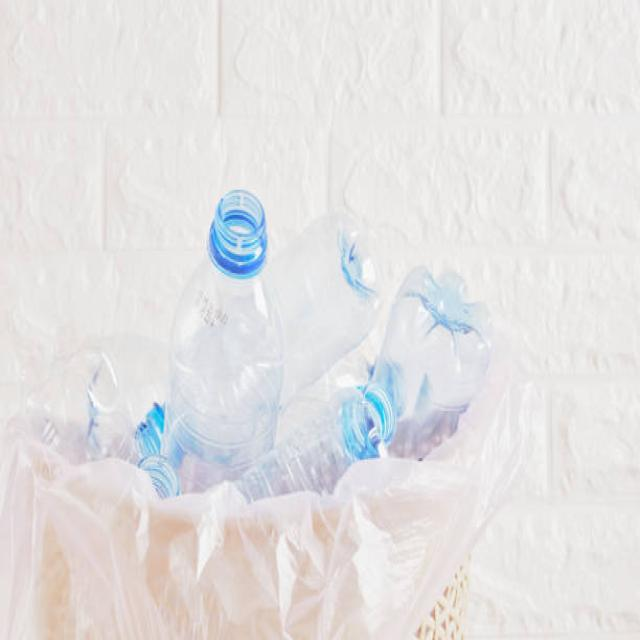plastic: (112, 180, 490, 422)
